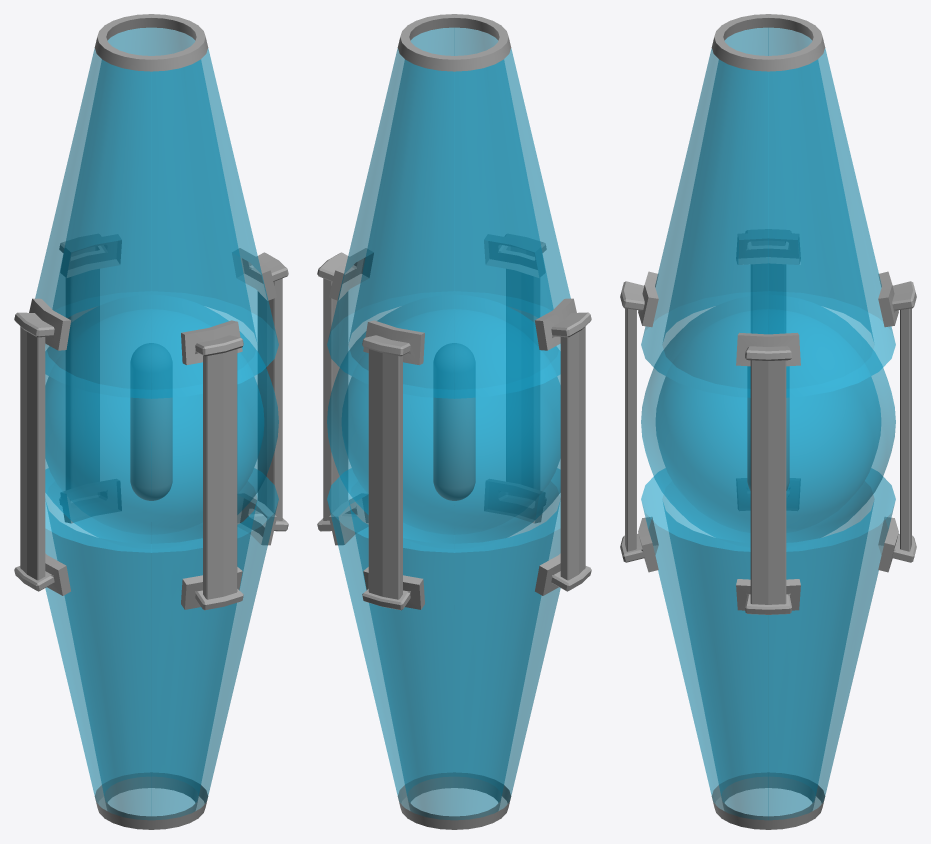
The model's file is Geo_Laterne.fbx.
3 renders of one model, left to right at view 1: azimuth 30°, elevation 25°; view 2: azimuth 150°, elevation 25°; view 3: azimuth 270°, elevation 25°, orthographic.
Visible parts, largest first — view 1: Geo_Laterne; view 2: Geo_Laterne; view 3: Geo_Laterne.
Part boxes in pixels (x1=…): Geo_Laterne: x1=14, y1=14, x2=288, y2=829; Geo_Laterne: x1=317, y1=14, x2=591, y2=829; Geo_Laterne: x1=620, y1=14, x2=916, y2=829.
Size of the model in its own units: 55.89 by 160 by 55.89.
